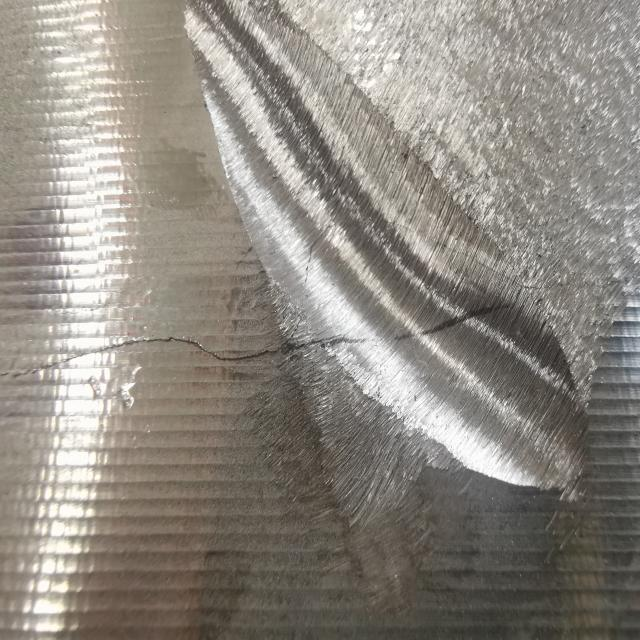Contact_Fatigue_Cracks: (288, 183, 362, 348), (5, 335, 280, 377), (292, 303, 529, 349)
